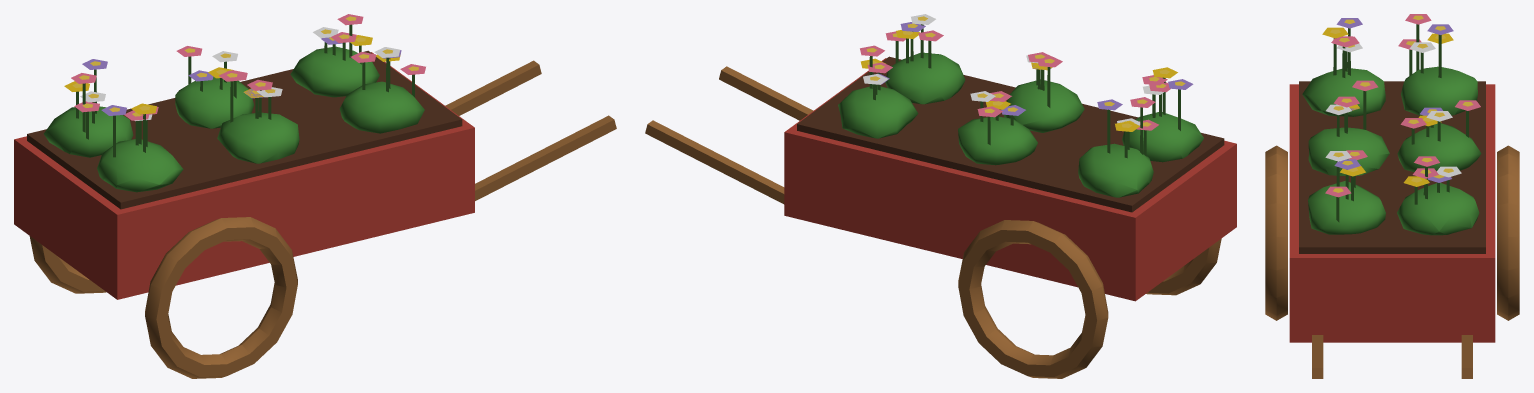
Rendered from flower_cart.glb.
The picture shows the model from 3 angles, left to right: view 1: azimuth 30°, elevation 25°; view 2: azimuth 150°, elevation 25°; view 3: azimuth 270°, elevation 25°; orthographic projection.
Visible parts, largest first — view 1: decor-flower_cart; view 2: decor-flower_cart; view 3: decor-flower_cart.
Part boxes in pixels (x1=…): decor-flower_cart: x1=14, y1=14, x2=616, y2=378; decor-flower_cart: x1=645, y1=14, x2=1236, y2=378; decor-flower_cart: x1=1265, y1=14, x2=1519, y2=378.
Bounding box in the file's own units: 3.14 × 1.56 × 1.36.
